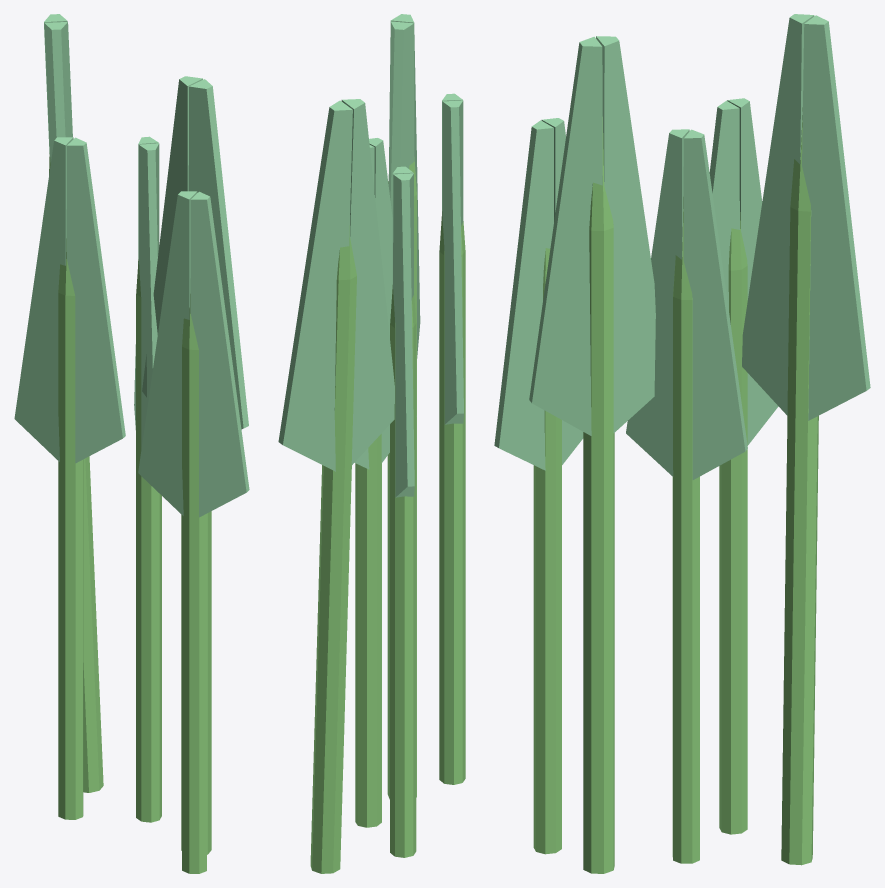
The model's file is バンバスグラス.fbx.
The picture shows the model from 3 angles, left to right: view 1: azimuth 30°, elevation 25°; view 2: azimuth 150°, elevation 25°; view 3: azimuth 270°, elevation 25°; orthographic projection. The views are drawn at different scales.
Parts seen in each view (by area): view 1: 円柱.002, 円柱.003, 円柱.001, 円柱, 円柱.004; view 2: 円柱.004, 円柱.003, 円柱.002, 円柱.001, 円柱; view 3: 円柱, 円柱.004, 円柱.001, 円柱.003, 円柱.002.
Part boxes in pixels (x1,y1,x2,y2): 円柱.002: (14, 137, 125, 819); 円柱.003: (138, 191, 249, 873); 円柱.001: (134, 136, 161, 822); 円柱: (142, 76, 248, 854); 円柱.004: (44, 14, 103, 792); 円柱.004: (278, 99, 394, 873); 円柱.003: (439, 93, 465, 784); 円柱.002: (390, 166, 416, 857); 円柱.001: (354, 138, 416, 827); 円柱: (387, 14, 420, 799); 円柱: (529, 36, 655, 873); 円柱.004: (742, 14, 870, 865); 円柱.001: (626, 129, 747, 863); 円柱.003: (494, 118, 583, 854); 円柱.002: (709, 98, 778, 834).
Bounding box in the file's own units: 34.57 × 214 × 88.32.
